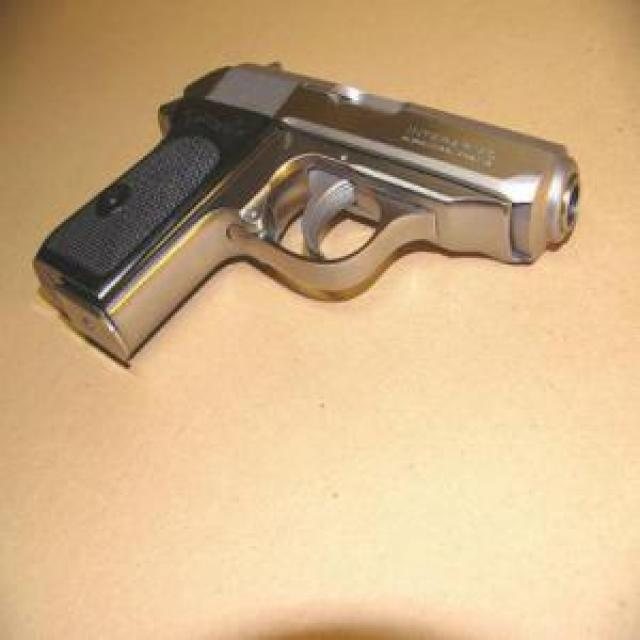pistol: (32, 60, 585, 367)
